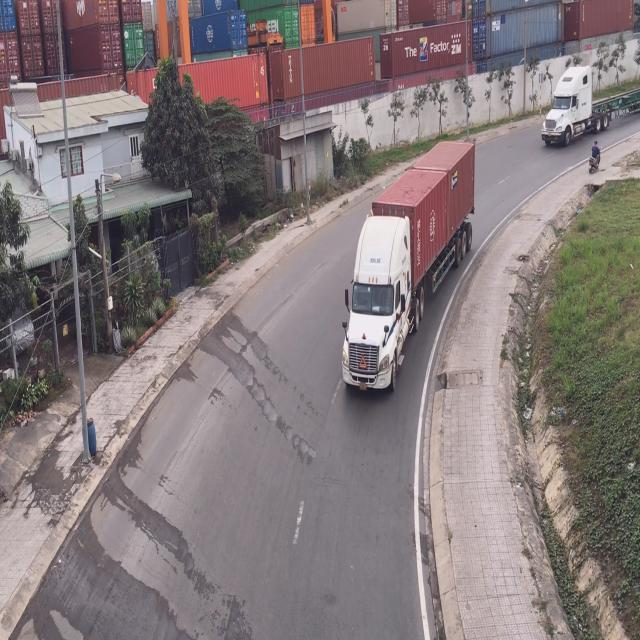motorbike: (589, 139, 602, 173)
truck: (340, 140, 475, 398), (540, 69, 640, 149)
